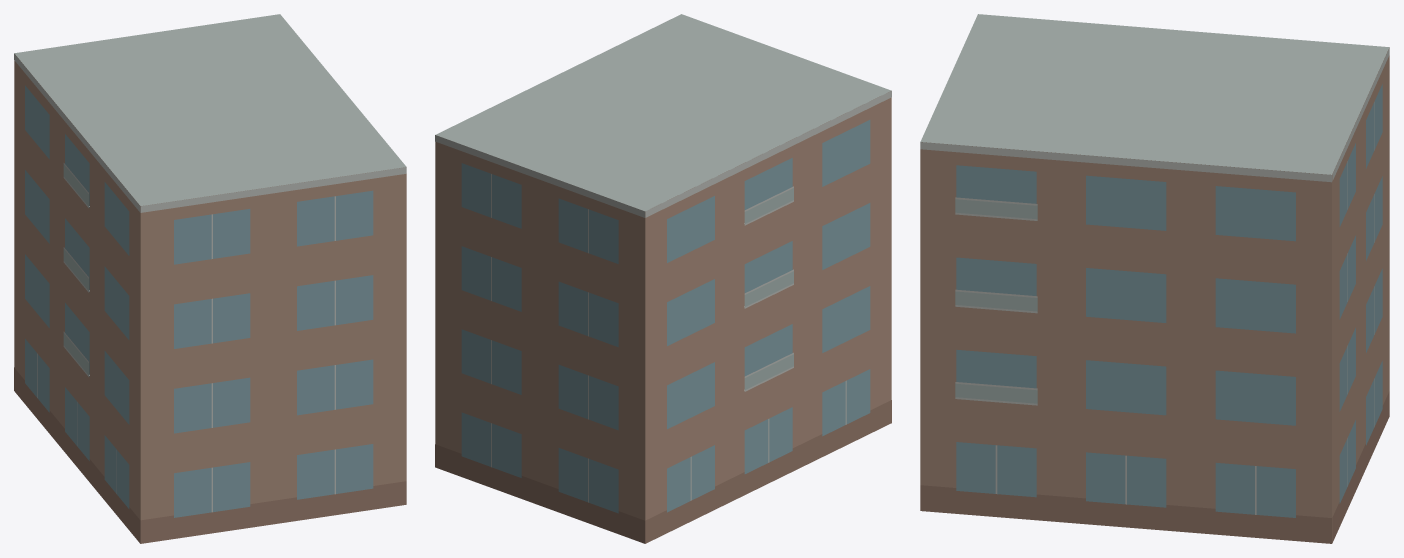
The model's file is residential-f05b0521-bc39-439f-8fe4-cf3812d5344c.glb.
3 renders of one model, left to right at view 1: azimuth 30°, elevation 25°; view 2: azimuth 150°, elevation 25°; view 3: azimuth 270°, elevation 25°, orthographic. The views are drawn at different scales.
Parts seen in each view (by area): view 1: residential-f05b0521-bc39-439f-8fe4-cf3812d5344c.tmp; view 2: residential-f05b0521-bc39-439f-8fe4-cf3812d5344c.tmp; view 3: residential-f05b0521-bc39-439f-8fe4-cf3812d5344c.tmp.
Part boxes in pixels (box(x1,y1,x2,y2)): residential-f05b0521-bc39-439f-8fe4-cf3812d5344c.tmp: box(14, 14, 406, 543); residential-f05b0521-bc39-439f-8fe4-cf3812d5344c.tmp: box(435, 14, 891, 543); residential-f05b0521-bc39-439f-8fe4-cf3812d5344c.tmp: box(920, 14, 1389, 543).
Size of the model in its own units: 11.42 by 12.2 by 14.07.
